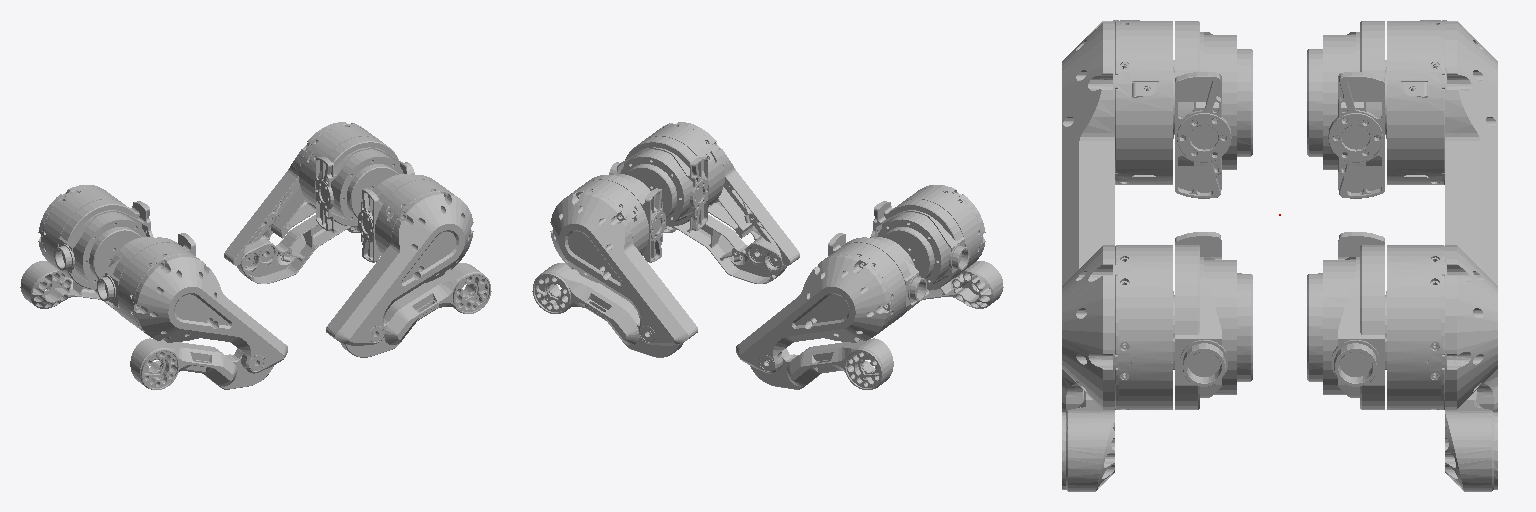
URDF robot description (y2_description):
<?xml version="1.0" encoding="utf-8"?>
<!-- This URDF was automatically created by SolidWorks to URDF Exporter! Originally created by Stephen Brawner (brawner@gmail.com) 
     Commit Version: 1.6.0-4-g7f85cfe  Build Version: 1.6.7995.38578
     For more information, please see http://wiki.ros.org/sw_urdf_exporter -->
<robot
  name="y2_description">
  <link
    name="base_link">
<inertial>
  <origin
    xyz="0.0 0.0 0.00660336"
    rpy="0 0 0" />
  <mass
    value="13.62220311" />
  <inertia
    ixx="0.05745341"
    ixy="-0.0002082"
    ixz="0.0"
    iyy="0.28193067"
    iyz="0.0"
    izz="0.28070589" />
</inertial>
    <visual>
      <origin
        xyz="0 0 0"
        rpy="0 0 0" />
      <geometry>
        <mesh
          filename="../meshes/base_link.STL" />
      </geometry>
      <material
        name="">
        <color
          rgba="0.75294 0.75294 0.75294 1" />
      </material>
    </visual>
    <collision>
      <origin
        xyz="0 0 0"
        rpy="0 0 0" />
      <geometry>
        <mesh
          filename="../meshes/base_link.STL" />
      </geometry>
    </collision>
  </link>
  <link
    name="imu_link">
<inertial>
  <origin
    xyz="0 0 0"
    rpy="0 0 0" />
  <mass
    value="0.001" />
  <inertia
    ixx="0.0001"
    ixy="0"
    ixz="0"
    iyy="0.0001"
    iyz="0"
    izz="0.0001" />
</inertial>
    <visual>
      <origin
        xyz="0 0 0"
        rpy="0 0 0" />
      <geometry>
        <box
          size="0.001 0.001 0.001" />
      </geometry>
      <material
        name="red">
        <color
          rgba="1 0 0 1" />
      </material>
    </visual>
    <collision>
      <origin
        xyz="0 0 0"
        rpy="0 0 0" />
      <geometry>
        <box
          size="0.000518 0.000518 0.000518" />
      </geometry>
    </collision>
  </link>
  <joint
    name="imu_joint"
    type="fixed">
    <origin
      xyz="0 0 0"
      rpy="0 0 0" />
    <parent
      link="base_link" />
    <child
      link="imu_link" />
  </joint>
  <link
    name="front_left_hip_link">
<inertial>
  <origin
    xyz="-0.00557137 3.365e-05 0.05740371"
    rpy="0 0 0" />
  <mass
    value="0.93241215" />
  <inertia
    ixx="0.0011636"
    ixy="-4.5e-07"
    ixz="7.77e-06"
    iyy="0.00081261"
    iyz="1.34e-06"
    izz="0.00072333" />
</inertial>
    <visual>
      <origin
        xyz="0 0 0"
        rpy="0 0 0" />
      <geometry>
        <mesh
          filename="../meshes/front_left_hip_link.STL" />
      </geometry>
      <material
        name="">
        <color
          rgba="0.75294 0.75294 0.75294 1" />
      </material>
    </visual>
    <collision>
      <origin
        xyz="0 0 0"
        rpy="0 0 0" />
      <geometry>
        <mesh
          filename="../meshes/front_left_hip_link.STL" />
      </geometry>
    </collision>
  </link>
  <joint
    name="front_left_hip_joint"
    type="fixed">
    <origin
      xyz="0.126 0.0525 0"
      rpy="1.5708 0 1.5708" />
    <parent
      link="base_link" />
    <child
      link="front_left_hip_link" />
  </joint>
  <link
    name="front_left_thigh_link">
<inertial>
  <origin
    xyz="0.00850956 0.00116386 -0.03650107"
    rpy="0 0 0" />
  <mass
    value="1.04795802" />
  <inertia
    ixx="0.00097197"
    ixy="-0.00013838"
    ixz="-0.00028846"
    iyy="0.00202121"
    iyz="-4.168e-05"
    izz="0.0022969" />
</inertial>
    <visual>
      <origin
        xyz="0 0 0"
        rpy="0 0 0" />
      <geometry>
        <mesh
          filename="../meshes/front_left_thigh_link.STL" />
      </geometry>
      <material
        name="">
        <color
          rgba="0.75294 0.75294 0.75294 1" />
      </material>
    </visual>
    <collision>
      <origin
        xyz="0 0 0"
        rpy="0 0 0" />
      <geometry>
        <mesh
          filename="../meshes/front_left_thigh_link.STL" />
      </geometry>
    </collision>
  </link>
  <joint
    name="front_left_thigh_joint"
    type="revolute">
    <origin
      xyz="0.087 0 0.0583"
      rpy="-1.5708 0.7854 -1.5708" />
    <parent
      link="front_left_hip_link" />
    <child
      link="front_left_thigh_link" />
    <axis
      xyz="0 0 1" />
    <limit
      lower="-2.3562"
      upper="2.3562"
      effort="80"
      velocity="15" />
  </joint>
  <link
    name="front_left_knee_link">
<inertial>
  <origin
    xyz="0.08449172 0.00209534 -0.00687557"
    rpy="0 0 0" />
  <mass
    value="0.19539429" />
  <inertia
    ixx="6.436e-05"
    ixy="5.555e-05"
    ixz="-3.65e-05"
    iyy="0.0008211"
    iyz="3.3e-07"
    izz="0.0008554" />
</inertial>
    <visual>
      <origin
        xyz="0 0 0"
        rpy="0 0 0" />
      <geometry>
        <mesh
          filename="../meshes/front_left_knee_link.STL" />
      </geometry>
      <material
        name="">
        <color
          rgba="0.75294 0.75294 0.75294 1" />
      </material>
    </visual>
    <collision>
      <origin
        xyz="0 0 0"
        rpy="0 0 0" />
      <geometry>
        <mesh
          filename="../meshes/front_left_knee_link.STL" />
      </geometry>
    </collision>
  </link>
  <joint
    name="front_left_knee_joint"
    type="revolute">
    <origin
      xyz="0.14 0 0"
      rpy="0 0 -2.5197" />
    <parent
      link="front_left_thigh_link" />
    <child
      link="front_left_knee_link" />
    <axis
      xyz="0 0 1" />
    <limit
      lower="0"
      upper="1.9199"
      effort="80"
      velocity="15" />
  </joint>
  <link
    name="front_left_wheel_link">
<inertial>
  <origin
    xyz="-1.864e-05 1.98e-06 0.03424961"
    rpy="0 0 0" />
  <mass
    value="1.48448049" />
  <inertia
    ixx="0.00350856"
    ixy="3e-08"
    ixz="2.2e-07"
    iyy="0.00351161"
    iyz="-2.2e-07"
    izz="0.00660183" />
</inertial>
    <visual>
      <origin
        xyz="0 0 0"
        rpy="0 0 0" />
      <geometry>
        <mesh
          filename="../meshes/front_left_wheel_link.STL" />
      </geometry>
      <material
        name="">
        <color
          rgba="0.89804 0.91765 0.92941 1" />
      </material>
    </visual>
    <collision>
      <origin
        xyz="0 0 0"
        rpy="0 0 0" />
      <geometry>
        <mesh
          filename="../meshes/front_left_wheel_link.STL" />
      </geometry>
    </collision>
  </link>
  <joint
    name="front_left_wheel_joint"
    type="revolute">
    <origin
      xyz="0.14 0 0"
      rpy="0 0 0.16348" />
    <parent
      link="front_left_knee_link" />
    <child
      link="front_left_wheel_link" />
    <axis
      xyz="0 0 1" />
    <limit
      lower="-31415926535.0"
      upper="31415926535.0"
      effort="20"
      velocity="30" />
  </joint>
  <link
    name="front_right_hip_link">
<inertial>
  <origin
    xyz="0.00557137 -3.365e-05 0.05740371"
    rpy="0 0 0" />
  <mass
    value="0.93241215" />
  <inertia
    ixx="0.0011636"
    ixy="-4.5e-07"
    ixz="-7.77e-06"
    iyy="0.00081261"
    iyz="-1.34e-06"
    izz="0.00072333" />
</inertial>
    <visual>
      <origin
        xyz="0 0 0"
        rpy="0 0 0" />
      <geometry>
        <mesh
          filename="../meshes/front_right_hip_link.STL" />
      </geometry>
      <material
        name="">
        <color
          rgba="0.75294 0.75294 0.75294 1" />
      </material>
    </visual>
    <collision>
      <origin
        xyz="0 0 0"
        rpy="0 0 0" />
      <geometry>
        <mesh
          filename="../meshes/front_right_hip_link.STL" />
      </geometry>
    </collision>
  </link>
  <joint
    name="front_right_hip_joint"
    type="fixed">
    <origin
      xyz="0.126 -0.0525 0"
      rpy="1.5708 0 1.5708" />
    <parent
      link="base_link" />
    <child
      link="front_right_hip_link" />
  </joint>
  <link
    name="front_right_thigh_link">
<inertial>
  <origin
    xyz="0.00850956 0.00116386 0.03650107"
    rpy="0 0 0" />
  <mass
    value="1.04795802" />
  <inertia
    ixx="0.00097197"
    ixy="-0.00013838"
    ixz="0.00028846"
    iyy="0.00202121"
    iyz="4.168e-05"
    izz="0.0022969" />
</inertial>
    <visual>
      <origin
        xyz="0 0 0"
        rpy="0 0 0" />
      <geometry>
        <mesh
          filename="../meshes/front_right_thigh_link.STL" />
      </geometry>
      <material
        name="">
        <color
          rgba="0.75294 0.75294 0.75294 1" />
      </material>
    </visual>
    <collision>
      <origin
        xyz="0 0 0"
        rpy="0 0 0" />
      <geometry>
        <mesh
          filename="../meshes/front_right_thigh_link.STL" />
      </geometry>
    </collision>
  </link>
  <joint
    name="front_right_thigh_joint"
    type="revolute">
    <origin
      xyz="-0.087 0 0.0583"
      rpy="-1.5708 0.7854 -1.5708" />
    <parent
      link="front_right_hip_link" />
    <child
      link="front_right_thigh_link" />
    <axis
      xyz="0 0 1" />
    <limit
      lower="-2.3562"
      upper="2.3562"
      effort="80"
      velocity="15" />
  </joint>
  <link
    name="front_right_knee_link">
<inertial>
  <origin
    xyz="0.08449172 0.00209534 0.00687557"
    rpy="0 0 0" />
  <mass
    value="0.19539429" />
  <inertia
    ixx="6.436e-05"
    ixy="5.555e-05"
    ixz="3.65e-05"
    iyy="0.0008211"
    iyz="-3.3e-07"
    izz="0.0008554" />
</inertial>
    <visual>
      <origin
        xyz="0 0 0"
        rpy="0 0 0" />
      <geometry>
        <mesh
          filename="../meshes/front_right_knee_link.STL" />
      </geometry>
      <material
        name="">
        <color
          rgba="0.75294 0.75294 0.75294 1" />
      </material>
    </visual>
    <collision>
      <origin
        xyz="0 0 0"
        rpy="0 0 0" />
      <geometry>
        <mesh
          filename="../meshes/front_right_knee_link.STL" />
      </geometry>
    </collision>
  </link>
  <joint
    name="front_right_knee_joint"
    type="revolute">
    <origin
      xyz="0.14 0 0"
      rpy="0 0 -2.5197" />
    <parent
      link="front_right_thigh_link" />
    <child
      link="front_right_knee_link" />
    <axis
      xyz="0 0 1" />
    <limit
      lower="0"
      upper="1.9199"
      effort="80"
      velocity="15" />
  </joint>
  <link
    name="front_right_wheel_link">
<inertial>
  <origin
    xyz="-1.864e-05 1.98e-06 -0.03424961"
    rpy="0 0 0" />
  <mass
    value="1.48448049" />
  <inertia
    ixx="0.00350856"
    ixy="3e-08"
    ixz="-2.2e-07"
    iyy="0.00351161"
    iyz="-2.2e-07"
    izz="0.00660183" />
</inertial>
    <visual>
      <origin
        xyz="0 0 0"
        rpy="0 0 0" />
      <geometry>
        <mesh
          filename="../meshes/front_right_wheel_link.STL" />
      </geometry>
      <material
        name="">
        <color
          rgba="0.89804 0.91765 0.92941 1" />
      </material>
    </visual>
    <collision>
      <origin
        xyz="0 0 0"
        rpy="0 0 0" />
      <geometry>
        <mesh
          filename="../meshes/front_right_wheel_link.STL" />
      </geometry>
    </collision>
  </link>
  <joint
    name="front_right_wheel_joint"
    type="revolute">
    <origin
      xyz="0.14 0 0"
      rpy="0 0 0.16348" />
    <parent
      link="front_right_knee_link" />
    <child
      link="front_right_wheel_link" />
    <axis
      xyz="0 0 1" />
    <limit
      lower="-31415926535"
      upper="31415926535"
      effort="20"
      velocity="30" />
  </joint>
  <link
    name="back_left_hip_link">
<inertial>
  <origin
    xyz="-0.00557137 3.365e-05 -0.05740371"
    rpy="0 0 0" />
  <mass
    value="0.93241215" />
  <inertia
    ixx="0.0011636"
    ixy="-4.5e-07"
    ixz="-7.77e-06"
    iyy="0.00081261"
    iyz="-1.34e-06"
    izz="0.00072333" />
</inertial>
    <visual>
      <origin
        xyz="0 0 0"
        rpy="0 0 0" />
      <geometry>
        <mesh
          filename="../meshes/back_left_hip_link.STL" />
      </geometry>
      <material
        name="">
        <color
          rgba="0.75294 0.75294 0.75294 1" />
      </material>
    </visual>
    <collision>
      <origin
        xyz="0 0 0"
        rpy="0 0 0" />
      <geometry>
        <mesh
          filename="../meshes/back_left_hip_link.STL" />
      </geometry>
    </collision>
  </link>
  <joint
    name="back_left_hip_joint"
    type="fixed">
    <origin
      xyz="-0.126 0.0525 0"
      rpy="1.5708 0 1.5708" />
    <parent
      link="base_link" />
    <child
      link="back_left_hip_link" />
  </joint>
  <link
    name="back_left_thigh_link">
<inertial>
  <origin
    xyz="0.00850956 -0.00116386 -0.03650107"
    rpy="0 0 0" />
  <mass
    value="1.04795802" />
  <inertia
    ixx="0.00097197"
    ixy="0.00013838"
    ixz="-0.00028846"
    iyy="0.00202121"
    iyz="4.168e-05"
    izz="0.0022969" />
</inertial>
    <visual>
      <origin
        xyz="0 0 0"
        rpy="0 0 0" />
      <geometry>
        <mesh
          filename="../meshes/back_left_thigh_link.STL" />
      </geometry>
      <material
        name="">
        <color
          rgba="0.75294 0.75294 0.75294 1" />
      </material>
    </visual>
    <collision>
      <origin
        xyz="0 0 0"
        rpy="0 0 0" />
      <geometry>
        <mesh
          filename="../meshes/back_left_thigh_link.STL" />
      </geometry>
    </collision>
  </link>
  <joint
    name="back_left_thigh_joint"
    type="revolute">
    <origin
      xyz="0.087 0 -0.0583"
      rpy="-1.5708 -0.7854 -1.5708" />
    <parent
      link="back_left_hip_link" />
    <child
      link="back_left_thigh_link" />
    <axis
      xyz="0 0 1" />
    <limit
      lower="-2.3562"
      upper="2.3562"
      effort="80"
      velocity="15" />
  </joint>
  <link
    name="back_left_knee_link">
<inertial>
  <origin
    xyz="0.08449171 -0.00209534 -0.00687557"
    rpy="0 0 0" />
  <mass
    value="0.19539429" />
  <inertia
    ixx="6.436e-05"
    ixy="-5.555e-05"
    ixz="-3.65e-05"
    iyy="0.0008211"
    iyz="-3.3e-07"
    izz="0.0008554" />
</inertial>
    <visual>
      <origin
        xyz="0 0 0"
        rpy="0 0 0" />
      <geometry>
        <mesh
          filename="../meshes/back_left_knee_link.STL" />
      </geometry>
      <material
        name="">
        <color
          rgba="0.75294 0.75294 0.75294 1" />
      </material>
    </visual>
    <collision>
      <origin
        xyz="0 0 0"
        rpy="0 0 0" />
      <geometry>
        <mesh
          filename="../meshes/back_left_knee_link.STL" />
      </geometry>
    </collision>
  </link>
  <joint
    name="back_left_knee_joint"
    type="revolute">
    <origin
      xyz="0.14 0 0"
      rpy="0 0 2.5197" />
    <parent
      link="back_left_thigh_link" />
    <child
      link="back_left_knee_link" />
    <axis
      xyz="0 0 1" />
    <limit
      lower="-1.9199"
      upper="0"
      effort="80"
      velocity="15" />
  </joint>
  <link
    name="back_left_wheel_link">
<inertial>
  <origin
    xyz="-1.864e-05 -1.98e-06 0.03424961"
    rpy="0 0 0" />
  <mass
    value="1.48448049" />
  <inertia
    ixx="0.00350856"
    ixy="-3e-08"
    ixz="2.2e-07"
    iyy="0.00351161"
    iyz="2.2e-07"
    izz="0.00660183" />
</inertial>
    <visual>
      <origin
        xyz="0 0 0"
        rpy="0 0 0" />
      <geometry>
        <mesh
          filename="../meshes/back_left_wheel_link.STL" />
      </geometry>
      <material
        name="">
        <color
          rgba="1 1 1 1" />
      </material>
    </visual>
    <collision>
      <origin
        xyz="0 0 0"
        rpy="0 0 0" />
      <geometry>
        <mesh
          filename="../meshes/back_left_wheel_link.STL" />
      </geometry>
    </collision>
  </link>
  <joint
    name="back_left_wheel_joint"
    type="revolute">
    <origin
      xyz="0.14 0 0"
      rpy="0 0 2.9781" />
    <parent
      link="back_left_knee_link" />
    <child
      link="back_left_wheel_link" />
    <axis
      xyz="0 0 1" />
    <limit
      lower="-31415926535"
      upper="31415926535"
      effort="20"
      velocity="30" />
  </joint>
  <link
    name="back_right_hip_link">
<inertial>
  <origin
    xyz="0.00557137 3.365e-05 -0.05740371"
    rpy="0 0 0" />
  <mass
    value="0.93241215" />
  <inertia
    ixx="0.0011636"
    ixy="4.5e-07"
    ixz="7.77e-06"
    iyy="0.00081261"
    iyz="-1.34e-06"
    izz="0.00072333" />
</inertial>
    <visual>
      <origin
        xyz="0 0 0"
        rpy="0 0 0" />
      <geometry>
        <mesh
          filename="../meshes/back_right_hip_link.STL" />
      </geometry>
      <material
        name="">
        <color
          rgba="0.75294 0.75294 0.75294 1" />
      </material>
    </visual>
    <collision>
      <origin
        xyz="0 0 0"
        rpy="0 0 0" />
      <geometry>
        <mesh
          filename="../meshes/back_right_hip_link.STL" />
      </geometry>
    </collision>
  </link>
  <joint
    name="back_right_hip_joint"
    type="fixed">
    <origin
      xyz="-0.126 -0.0525 0"
      rpy="1.5708 0 1.5708" />
    <parent
      link="base_link" />
    <child
      link="back_right_hip_link" />
  </joint>
  <link
    name="back_right_thigh_link">
<inertial>
  <origin
    xyz="0.00850956 -0.00116386 0.03650107"
    rpy="0 0 0" />
  <mass
    value="1.04795802" />
  <inertia
    ixx="0.00097197"
    ixy="0.00013838"
    ixz="0.00028846"
    iyy="0.00202121"
    iyz="-4.168e-05"
    izz="0.0022969" />
</inertial>
    <visual>
      <origin
        xyz="0 0 0"
        rpy="0 0 0" />
      <geometry>
        <mesh
          filename="../meshes/back_right_thigh_link.STL" />
      </geometry>
      <material
        name="">
        <color
          rgba="0.75294 0.75294 0.75294 1" />
      </material>
    </visual>
    <collision>
      <origin
        xyz="0 0 0"
        rpy="0 0 0" />
      <geometry>
        <mesh
          filename="../meshes/back_right_thigh_link.STL" />
      </geometry>
    </collision>
  </link>
  <joint
    name="back_right_thigh_joint"
    type="revolute">
    <origin
      xyz="-0.087 0 -0.0583"
      rpy="-1.5708 -0.7854 -1.5708" />
    <parent
      link="back_right_hip_link" />
    <child
      link="back_right_thigh_link" />
    <axis
      xyz="0 0 1" />
    <limit
      lower="-2.3562"
      upper="2.3562"
      effort="80"
      velocity="15" />
  </joint>
  <link
    name="back_right_knee_link">
<inertial>
  <origin
    xyz="0.08449171 -0.00209534 0.00687557"
    rpy="0 0 0" />
  <mass
    value="0.19539429" />
  <inertia
    ixx="6.436e-05"
    ixy="-5.555e-05"
    ixz="3.65e-05"
    iyy="0.0008211"
    iyz="3.3e-07"
    izz="0.0008554" />
</inertial>
    <visual>
      <origin
        xyz="0 0 0"
        rpy="0 0 0" />
      <geometry>
        <mesh
          filename="../meshes/back_right_knee_link.STL" />
      </geometry>
      <material
        name="">
        <color
          rgba="0.75294 0.75294 0.75294 1" />
      </material>
    </visual>
    <collision>
      <origin
        xyz="0 0 0"
        rpy="0 0 0" />
      <geometry>
        <mesh
          filename="../meshes/back_right_knee_link.STL" />
      </geometry>
    </collision>
  </link>
  <joint
    name="back_right_knee_joint"
    type="revolute">
    <origin
      xyz="0.14 0 0"
      rpy="0 0 2.5197" />
    <parent
      link="back_right_thigh_link" />
    <child
      link="back_right_knee_link" />
    <axis
      xyz="0 0 1" />
    <limit
      lower="-1.9199"
      upper="0"
      effort="80"
      velocity="15" />
  </joint>
  <link
    name="back_right_wheel_link">
<inertial>
  <origin
    xyz="-1.864e-05 -1.98e-06 -0.03424961"
    rpy="0 0 0" />
  <mass
    value="1.48448049" />
  <inertia
    ixx="0.00350856"
    ixy="-3e-08"
    ixz="-2.2e-07"
    iyy="0.00351161"
    iyz="-2.2e-07"
    izz="0.00660183" />
</inertial>
    <visual>
      <origin
        xyz="0 0 0"
        rpy="0 0 0" />
      <geometry>
        <mesh
          filename="../meshes/back_right_wheel_link.STL" />
      </geometry>
      <material
        name="">
        <color
          rgba="0.89804 0.91765 0.92941 1" />
      </material>
    </visual>
    <collision>
      <origin
        xyz="0 0 0"
        rpy="0 0 0" />
      <geometry>
        <mesh
          filename="../meshes/back_right_wheel_link.STL" />
      </geometry>
    </collision>
  </link>
  <joint
    name="back_right_wheel_joint"
    type="revolute">
    <origin
      xyz="0.14 0 0"
      rpy="0 0 2.9781" />
    <parent
      link="back_right_knee_link" />
    <child
      link="back_right_wheel_link" />
    <axis
      xyz="0 0 1" />
    <limit
      lower="-31415926535"
      upper="31415926535"
      effort="20"
      velocity="30" />
  </joint>
</robot>

--- Render facts (derived) ---
3 views of the same robot in one strip: view 1: azimuth 30°, elevation 25°; view 2: azimuth 150°, elevation 25°; view 3: azimuth 270°, elevation 25° (orthographic).
Model y2_description with 18 links and 17 joints (12 revolute, 5 fixed), rooted at base_link, posed every joint at zero.
Visible links, largest first — view 1: front_right_thigh_link, back_right_thigh_link, front_left_thigh_link, back_left_hip_link, front_left_hip_link, front_right_knee_link, back_right_knee_link, front_left_knee_link, back_left_knee_link, back_left_thigh_link, front_right_hip_link, back_right_hip_link; view 2: front_left_thigh_link, back_left_thigh_link, front_right_thigh_link, back_right_hip_link, front_right_hip_link, front_left_knee_link, back_left_knee_link, front_right_knee_link, back_right_knee_link, back_right_thigh_link, front_left_hip_link, back_left_hip_link; view 3: back_left_thigh_link, back_right_thigh_link, front_left_thigh_link, front_right_thigh_link, front_left_hip_link, front_right_hip_link, back_left_hip_link, back_right_hip_link, front_left_knee_link, front_right_knee_link.
Boxes of the visible links, x1=… form: front_right_thigh_link: x1=326, y1=180, x2=473, y2=345; back_right_thigh_link: x1=117, y1=242, x2=287, y2=373; front_left_thigh_link: x1=224, y1=122, x2=378, y2=267; back_left_hip_link: x1=54, y1=199, x2=153, y2=288; front_left_hip_link: x1=315, y1=136, x2=414, y2=230; front_right_knee_link: x1=340, y1=263, x2=491, y2=357; back_right_knee_link: x1=130, y1=338, x2=273, y2=389; front_left_knee_link: x1=237, y1=215, x2=359, y2=283; back_left_knee_link: x1=20, y1=261, x2=116, y2=310; back_left_thigh_link: x1=38, y1=185, x2=121, y2=275; front_right_hip_link: x1=358, y1=174, x2=437, y2=262; back_right_hip_link: x1=97, y1=233, x2=195, y2=319; front_left_thigh_link: x1=550, y1=180, x2=697, y2=345; back_left_thigh_link: x1=736, y1=242, x2=906, y2=373; front_right_thigh_link: x1=645, y1=122, x2=799, y2=267; back_right_hip_link: x1=870, y1=199, x2=969, y2=288; front_right_hip_link: x1=609, y1=136, x2=708, y2=230; front_left_knee_link: x1=532, y1=263, x2=683, y2=357; back_left_knee_link: x1=750, y1=338, x2=893, y2=389; front_right_knee_link: x1=664, y1=215, x2=786, y2=283; back_right_knee_link: x1=907, y1=261, x2=1003, y2=310; back_right_thigh_link: x1=902, y1=185, x2=985, y2=275; front_left_hip_link: x1=586, y1=174, x2=665, y2=262; back_left_hip_link: x1=828, y1=233, x2=926, y2=319; back_left_thigh_link: x1=1385, y1=20, x2=1497, y2=285; back_right_thigh_link: x1=1062, y1=20, x2=1174, y2=285; front_left_thigh_link: x1=1385, y1=245, x2=1497, y2=411; front_right_thigh_link: x1=1062, y1=245, x2=1174, y2=411; front_left_hip_link: x1=1307, y1=232, x2=1384, y2=409; front_right_hip_link: x1=1175, y1=232, x2=1252, y2=409; back_left_hip_link: x1=1307, y1=21, x2=1384, y2=198; back_right_hip_link: x1=1175, y1=21, x2=1252, y2=198; front_left_knee_link: x1=1445, y1=391, x2=1497, y2=491; front_right_knee_link: x1=1062, y1=391, x2=1114, y2=491.
Size in the robot's own frame: 0.5029 by 0.302 by 0.1938 metres.
Meshes: 17 distinct files referenced, 12 mesh visuals loaded (12 binary STL); not drawn: 5 (reference not matched to a file when rendering).
